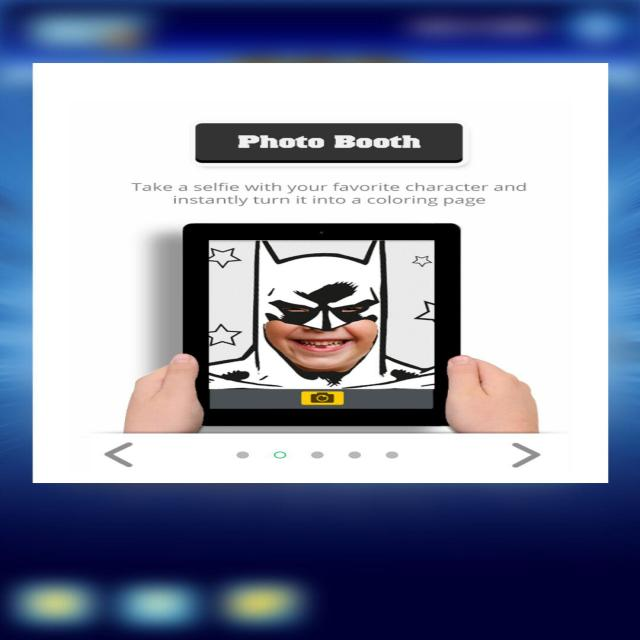button: (202, 127, 450, 161), (78, 436, 153, 474), (490, 439, 554, 475)
icon: (214, 442, 416, 468)
image: (110, 217, 546, 418)
text: (116, 170, 544, 218)
